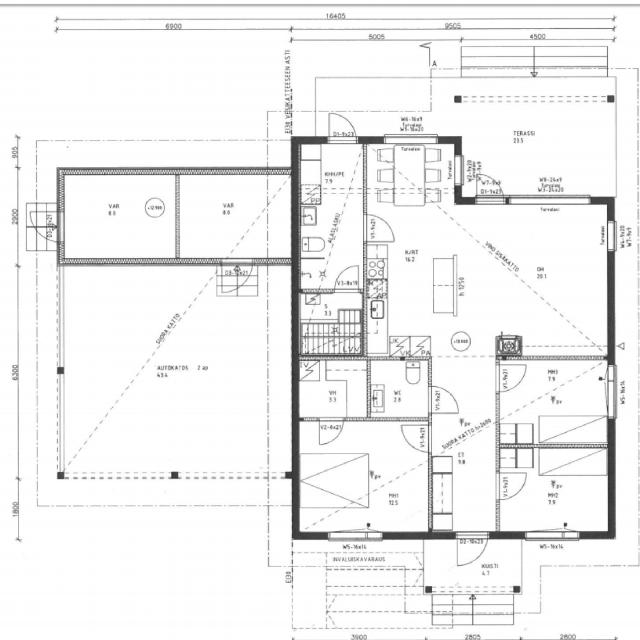door: (57, 172, 175, 265), (495, 447, 609, 535), (468, 170, 509, 207), (453, 530, 491, 569), (396, 420, 434, 456), (323, 110, 361, 144), (494, 468, 530, 503), (426, 382, 462, 416), (363, 212, 398, 244), (495, 361, 530, 393), (316, 415, 347, 447), (332, 262, 362, 292)
window: (502, 188, 594, 214), (51, 368, 72, 460), (321, 526, 389, 546), (600, 362, 620, 424), (520, 527, 586, 544), (380, 130, 442, 147), (604, 218, 618, 255), (452, 153, 466, 189)
zone: (407, 200, 612, 354), (364, 190, 455, 358), (57, 172, 175, 265), (175, 172, 293, 263), (494, 445, 611, 535), (496, 356, 610, 448), (298, 140, 365, 292), (298, 443, 372, 526), (296, 354, 371, 418), (296, 288, 364, 355), (368, 358, 430, 420), (27, 208, 59, 249)
